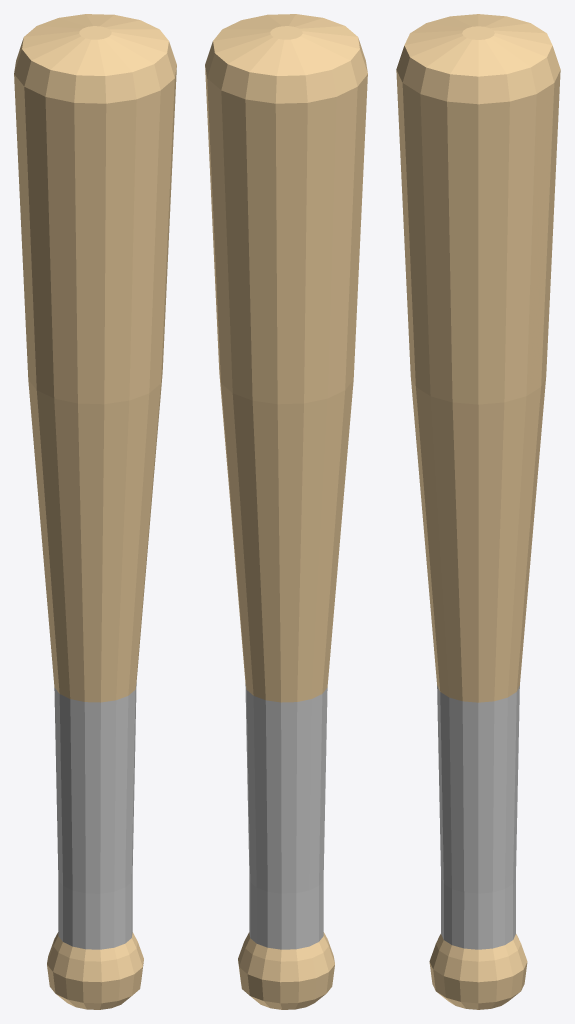
Rendered from Pointer_02_Bat.fbx.
The picture shows the model from 3 angles, left to right: view 1: azimuth 30°, elevation 25°; view 2: azimuth 150°, elevation 25°; view 3: azimuth 270°, elevation 25°; orthographic projection.
Parts seen in each view (by area): view 1: Pointer_02_Bat; view 2: Pointer_02_Bat; view 3: Pointer_02_Bat.
Part boxes in pixels (box(x1,y1,x2,y2)): Pointer_02_Bat: box(14, 14, 176, 1009); Pointer_02_Bat: box(205, 14, 367, 1009); Pointer_02_Bat: box(396, 14, 560, 1009).
Size of the model in its own units: 0.1393 by 0.9064 by 0.1393.
